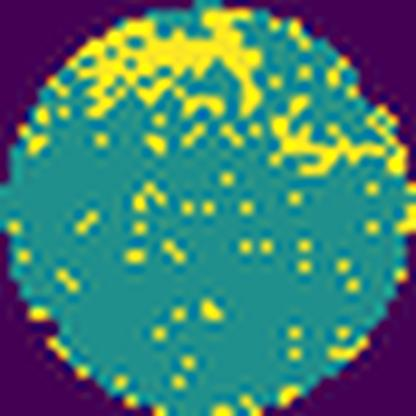Loc: (76, 8, 268, 118), (268, 113, 392, 176)
